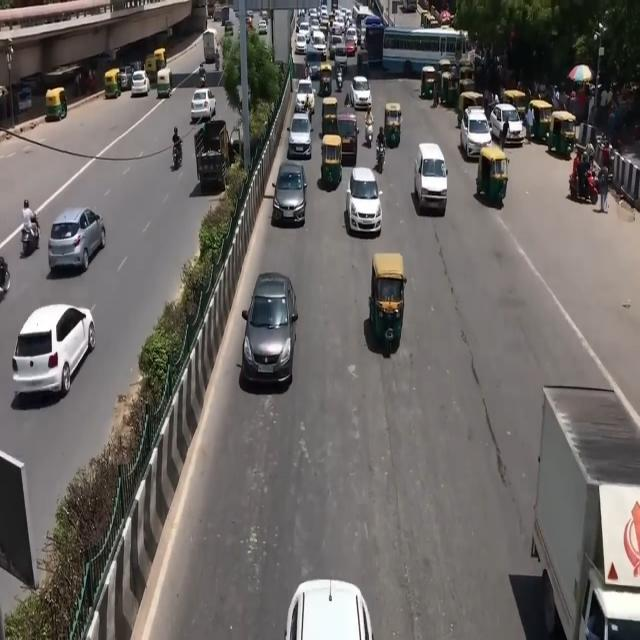auto: (368, 254, 406, 352), (474, 145, 510, 206), (547, 109, 576, 156), (321, 132, 343, 186), (528, 99, 553, 143), (502, 88, 528, 120), (384, 102, 402, 147), (45, 87, 67, 122), (322, 97, 339, 137), (420, 64, 437, 100), (156, 66, 173, 98), (105, 68, 122, 99), (319, 63, 333, 97), (145, 54, 158, 84), (154, 48, 166, 72)
bike-auto: (21, 200, 37, 248), (172, 124, 182, 164), (375, 138, 386, 174), (364, 108, 374, 144), (199, 63, 206, 87)
